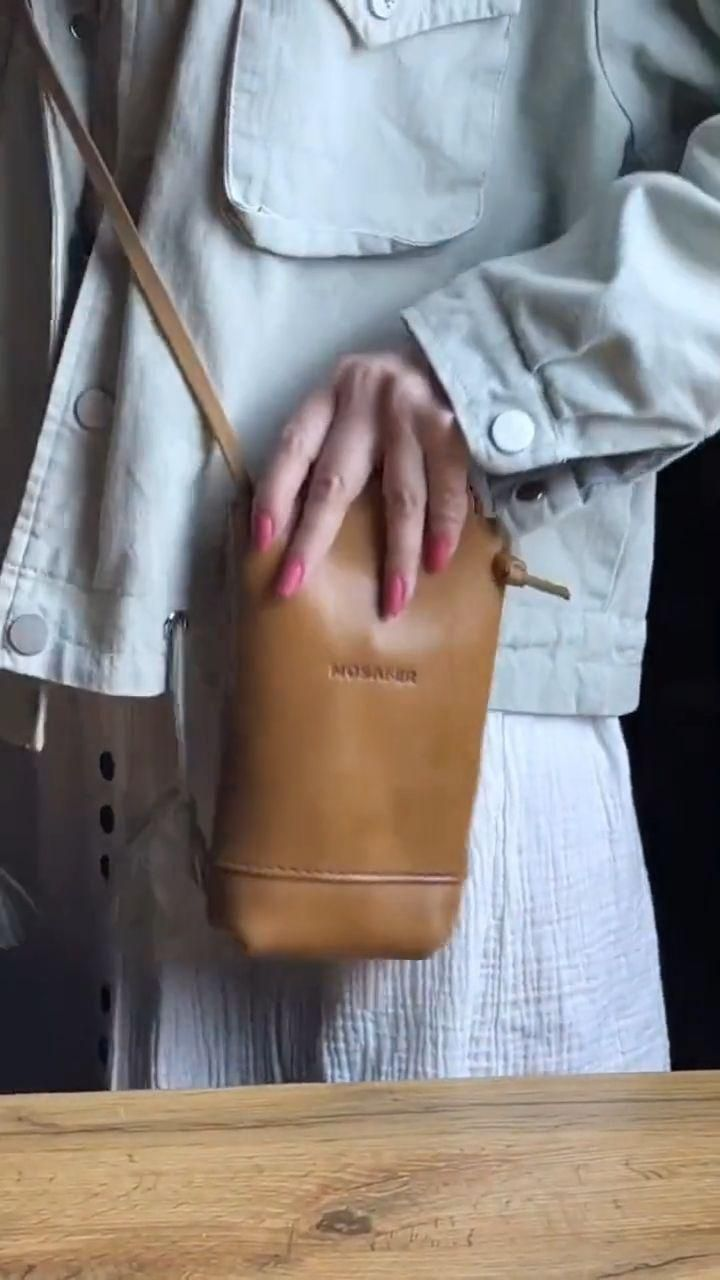cuero: (196, 492, 518, 964)
